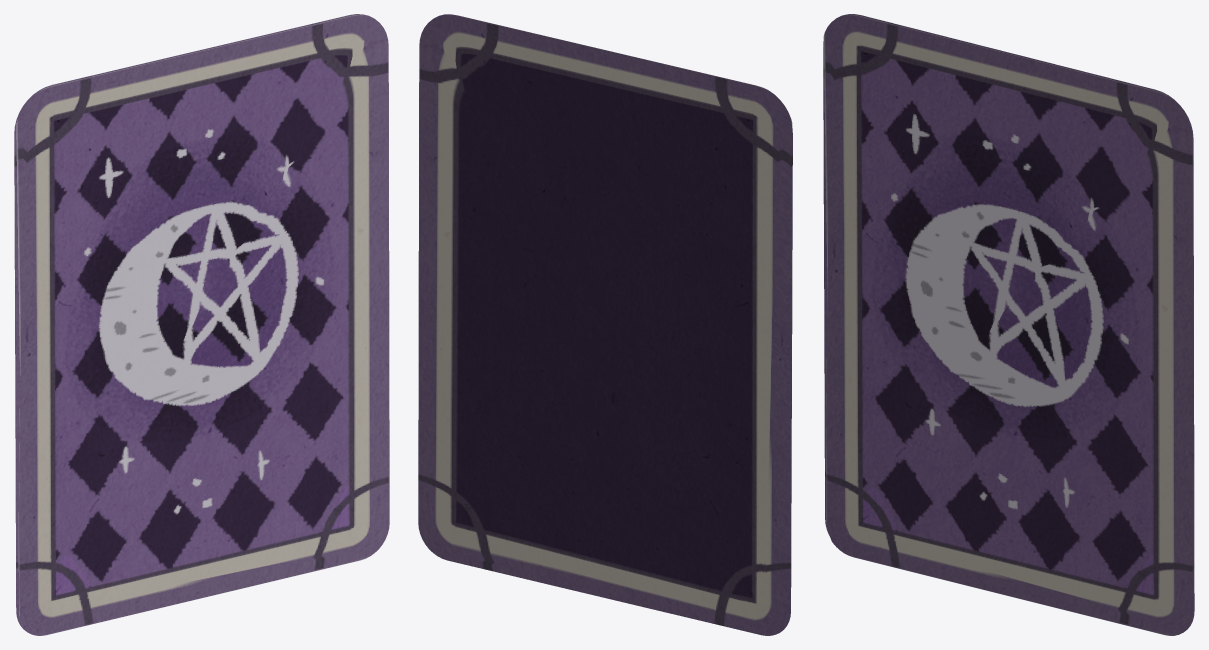
File: PurpleCard.fbx
3 views of the same model, side by side, from view 1: azimuth 30°, elevation 25°; view 2: azimuth 150°, elevation 25°; view 3: azimuth 330°, elevation 25° (orthographic).
Visible parts, largest first — view 1: Plane; view 2: Plane; view 3: Plane.
Part boxes in pixels (<box>): Plane: <box>14,14,389,635</box>; Plane: <box>418,14,792,635</box>; Plane: <box>823,14,1194,635</box>.
Size of the model in its own units: 321 by 451 by 1.11.
